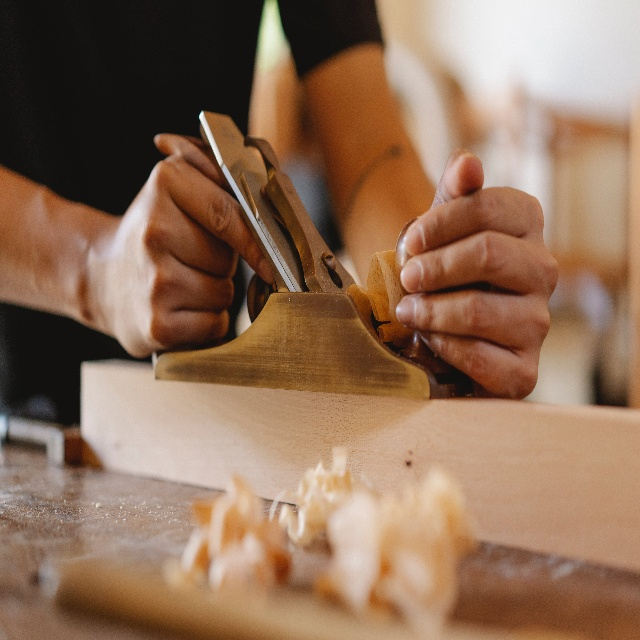Sin_guantes: (395, 148, 559, 404), (99, 154, 276, 361)
